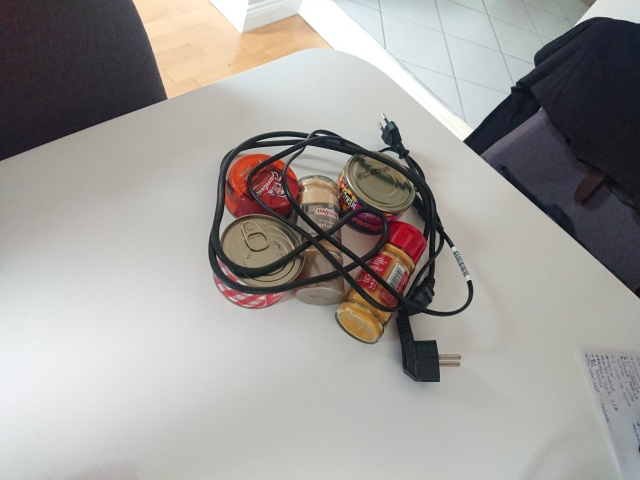Gavrilovic Pork Liver Pate 100g: (222, 151, 303, 227)
Giana Tuna Salad Mexico 185g: (332, 148, 416, 238)
Kotanyi Curry Spices Mix 70g: (333, 218, 429, 346)
Kotanyi Garlic Granules 70g: (292, 173, 347, 307)
Podravka Luncheon Meat 150g: (210, 210, 307, 311)
